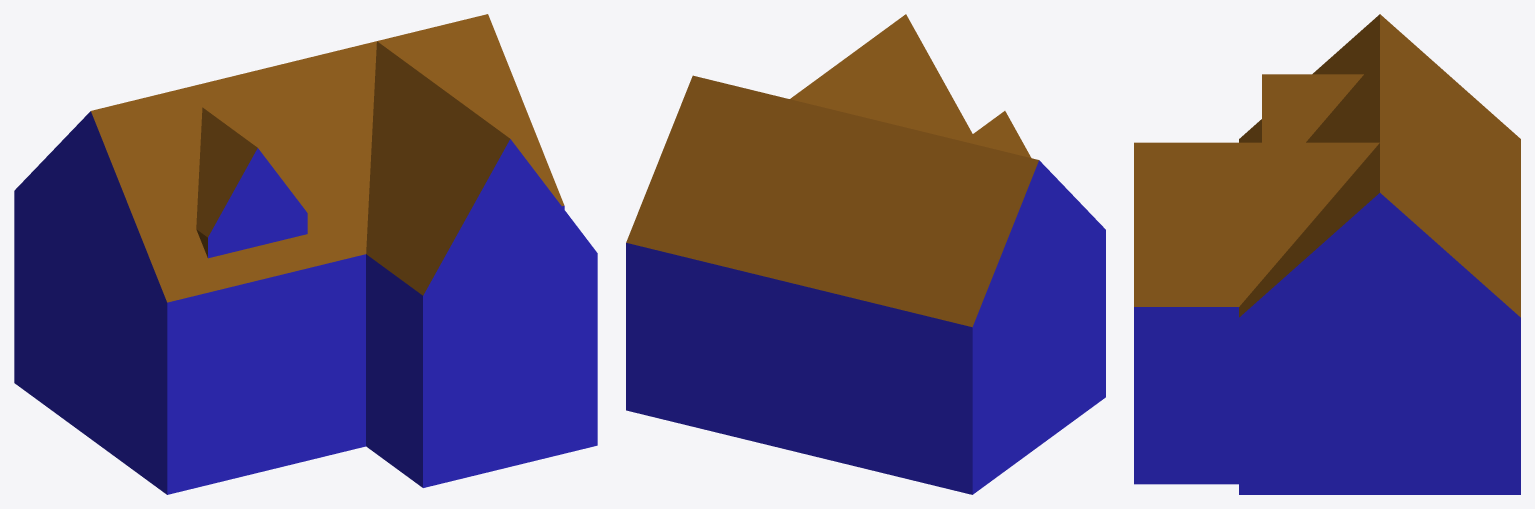
The model's file is house-1.glb.
3 renders of one model, left to right at view 1: azimuth 30°, elevation 25°; view 2: azimuth 150°, elevation 25°; view 3: azimuth 270°, elevation 25°, orthographic. The views are drawn at different scales.
Parts seen in each view (by area): view 1: Cube; view 2: Cube; view 3: Cube.
Boxes of the visible parts, x1,y1,x2,y2 form: Cube: (14,14,597,494); Cube: (626,14,1105,494); Cube: (1134,14,1520,494).
Size of the model in its own units: 3 by 2.37 by 2.75.
